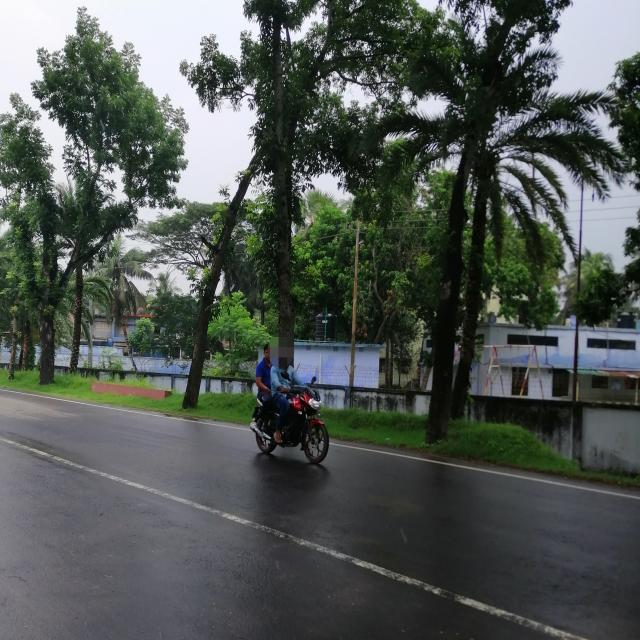Motorbike: (243, 380, 333, 470)
